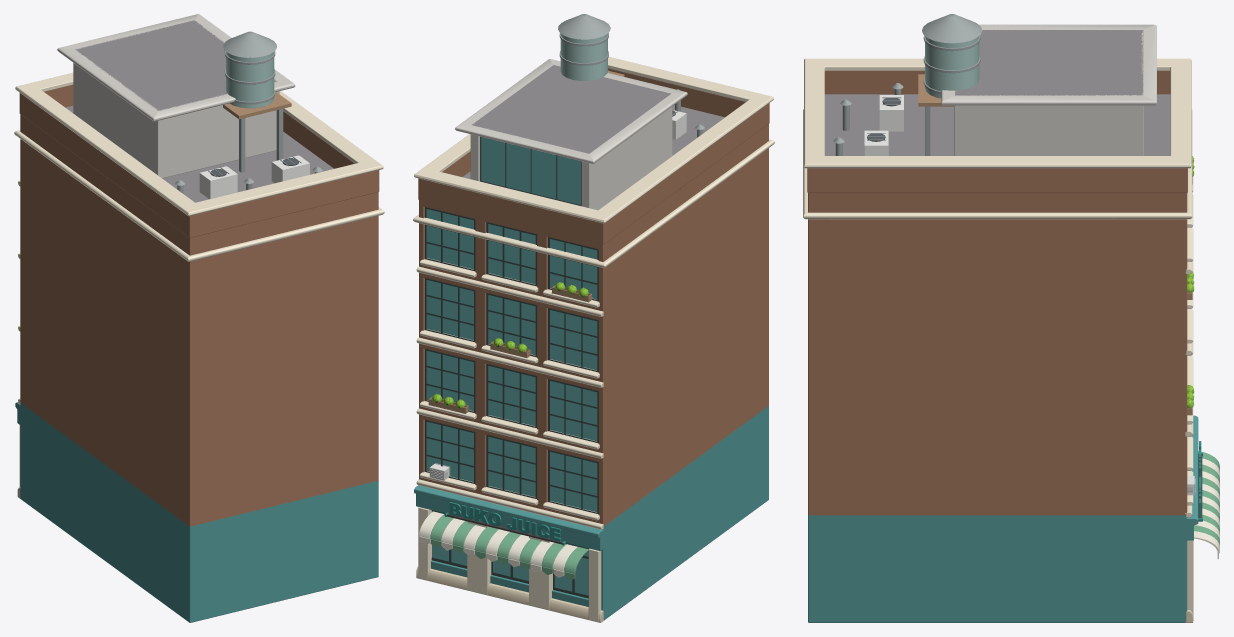
Rendered from loft_brown_ph_4.glb.
3 renders of one model, left to right at view 1: azimuth 30°, elevation 25°; view 2: azimuth 150°, elevation 25°; view 3: azimuth 270°, elevation 25°, orthographic. The views are drawn at different scales.
Visible parts, largest first — view 1: shell, trim, penthouse, props; view 2: shell, trim, penthouse, frames, awnings, props, sign_buko_juice_text, foliage, penthouse frames; view 3: shell, trim, penthouse, props, awnings.
Boxes of the visible parts, box(x1,y1,x2,y2) form: shell: box(20, 105, 378, 622); trim: box(14, 14, 384, 498); penthouse: box(73, 20, 279, 178); props: box(175, 31, 322, 199); shell: box(419, 105, 768, 620); trim: box(413, 57, 774, 622); penthouse: box(470, 65, 672, 210); frames: box(425, 207, 598, 598); awnings: box(419, 511, 588, 579); props: box(428, 14, 704, 480); sign_buko_juice_text: box(449, 502, 561, 541); foliage: box(432, 282, 588, 408); penthouse frames: box(480, 136, 581, 206); shell: box(808, 94, 1187, 622); trim: box(803, 24, 1198, 622); penthouse: box(954, 30, 1143, 155); props: box(833, 14, 1195, 495); awnings: box(1194, 451, 1219, 559).
Size of the model in its own units: 9.36 by 23.3 by 15.38.
Materials: 21 (2 with a texture image).
